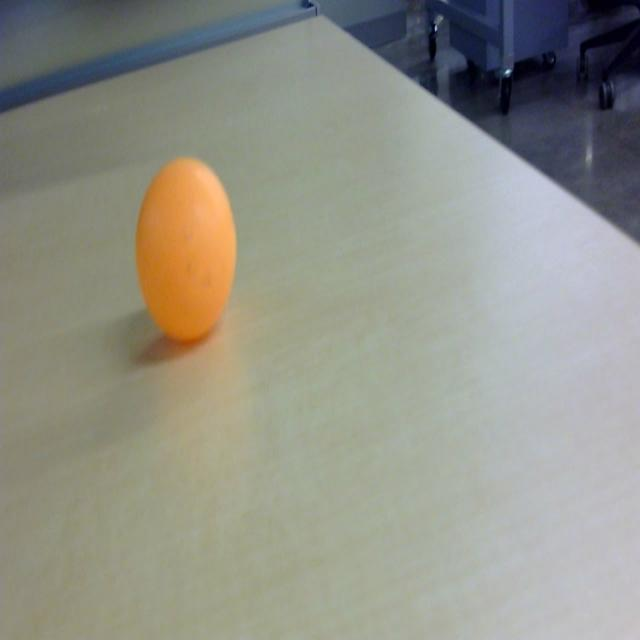ball: (133, 156, 236, 348)
